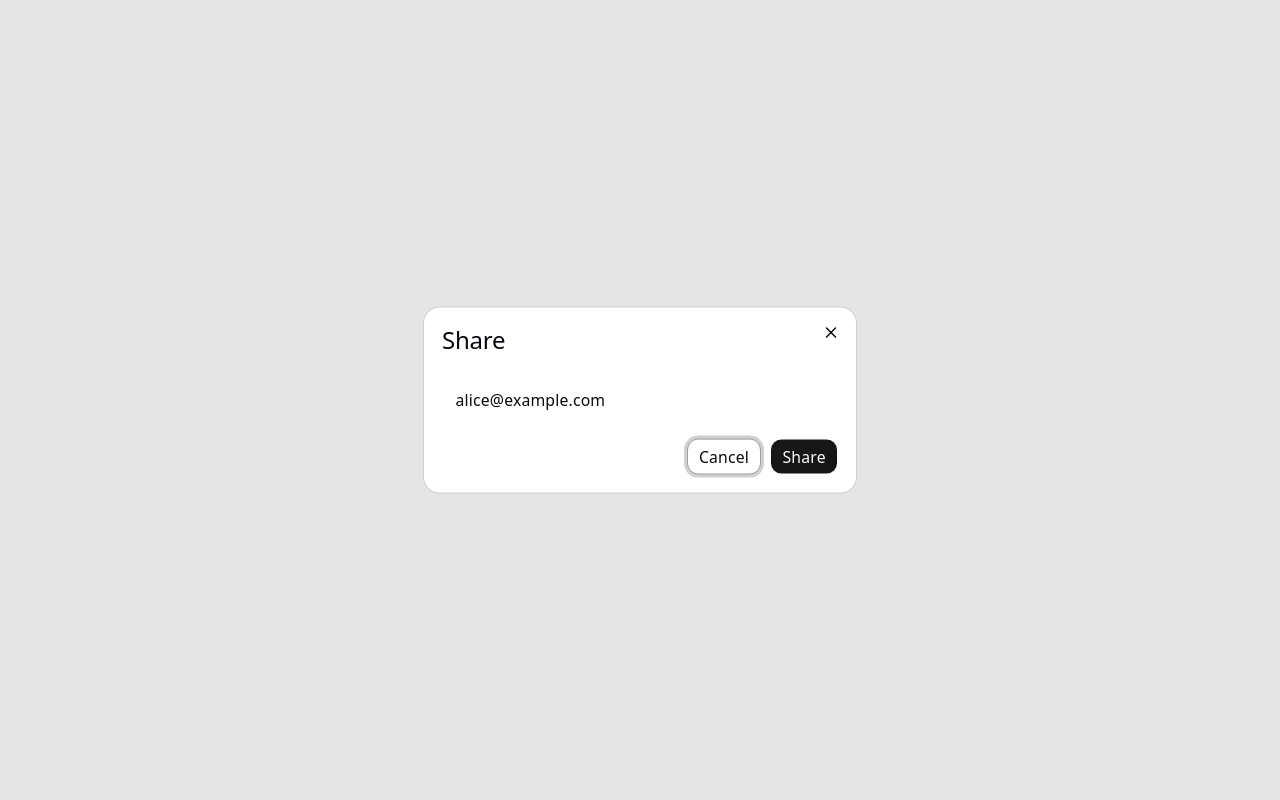
Test case: ShareDialog › ShareDialog should stay open show inline error and not toast when API returns 409
The image size is (1280, 800).
Click the button "alice@example.com": (530, 400) x1=442 y1=380 x2=838 y2=420
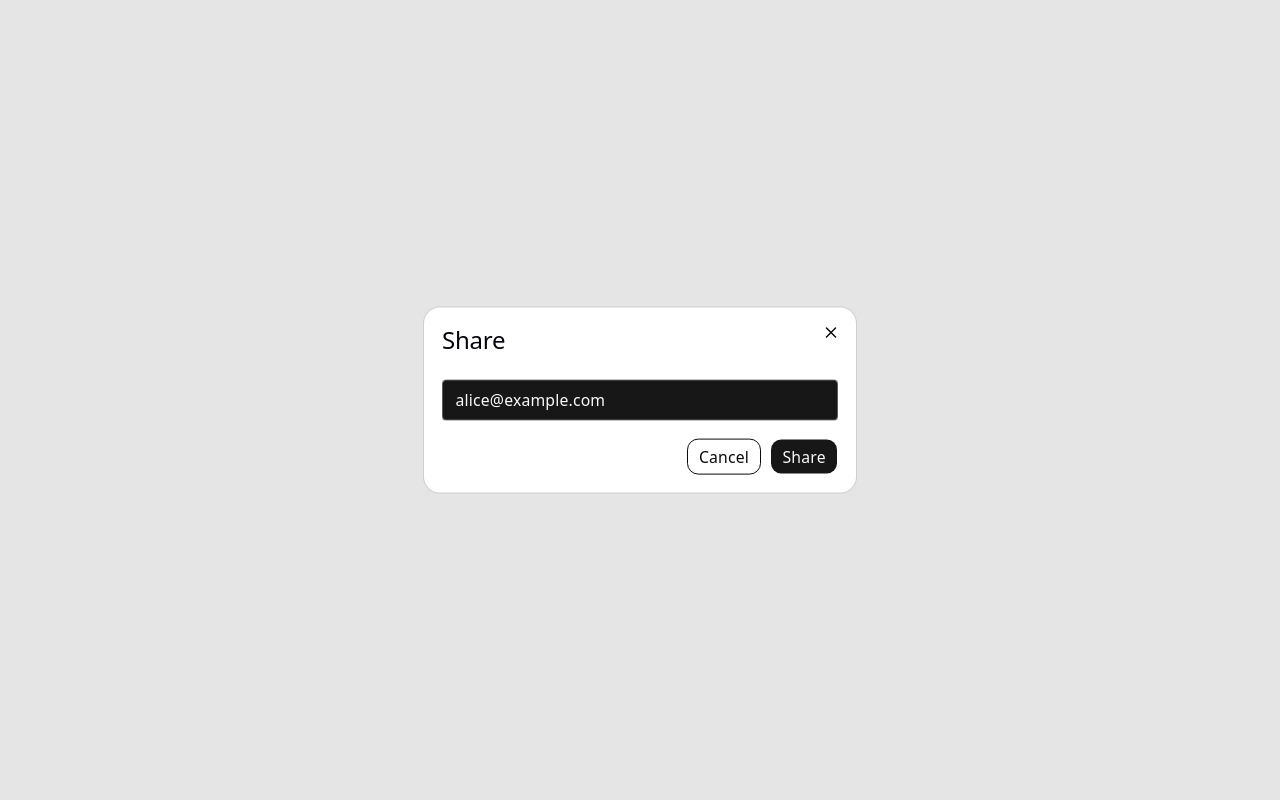
Click the button "Share": (804, 456) x1=770 y1=438 x2=838 y2=474
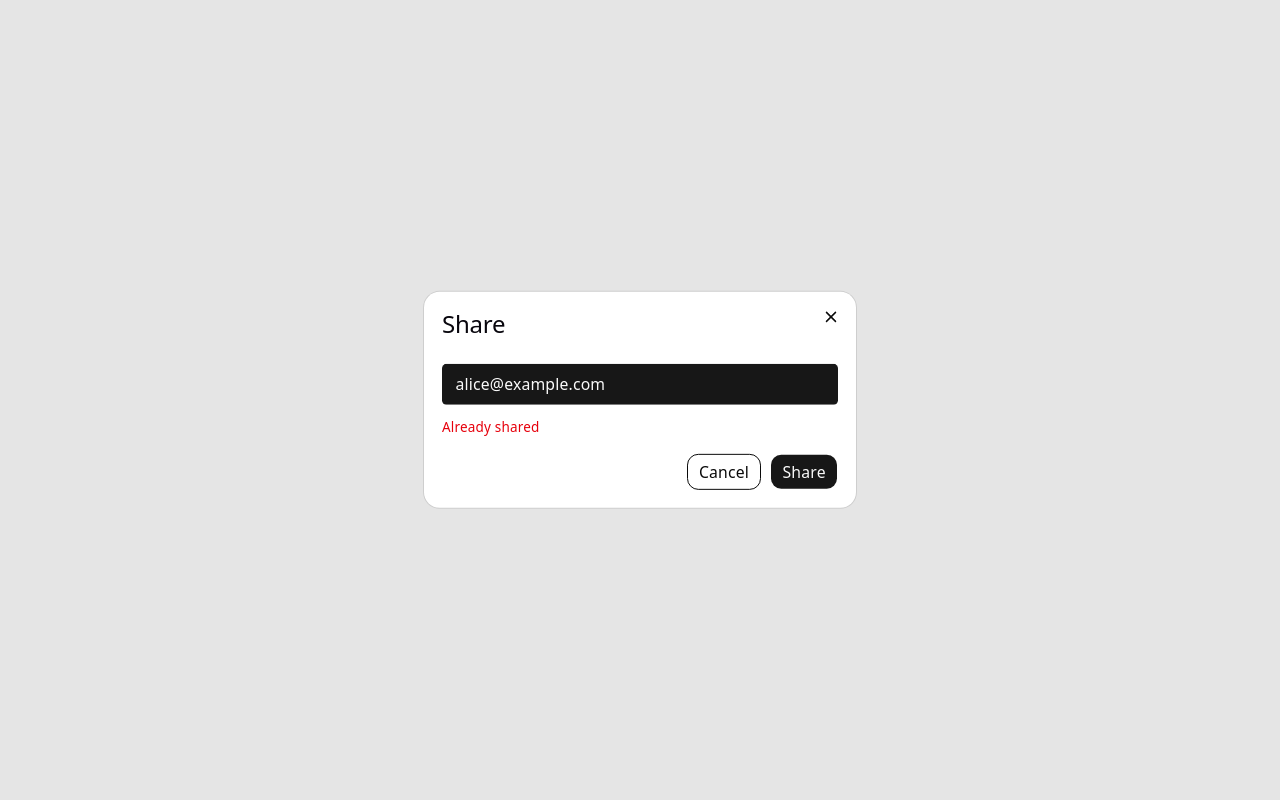
Expected: the dialog is shown, x1=424 y1=292 x2=856 y2=508
Now the text "Already shared" is shown, box x1=442 y1=418 x2=539 y2=436
